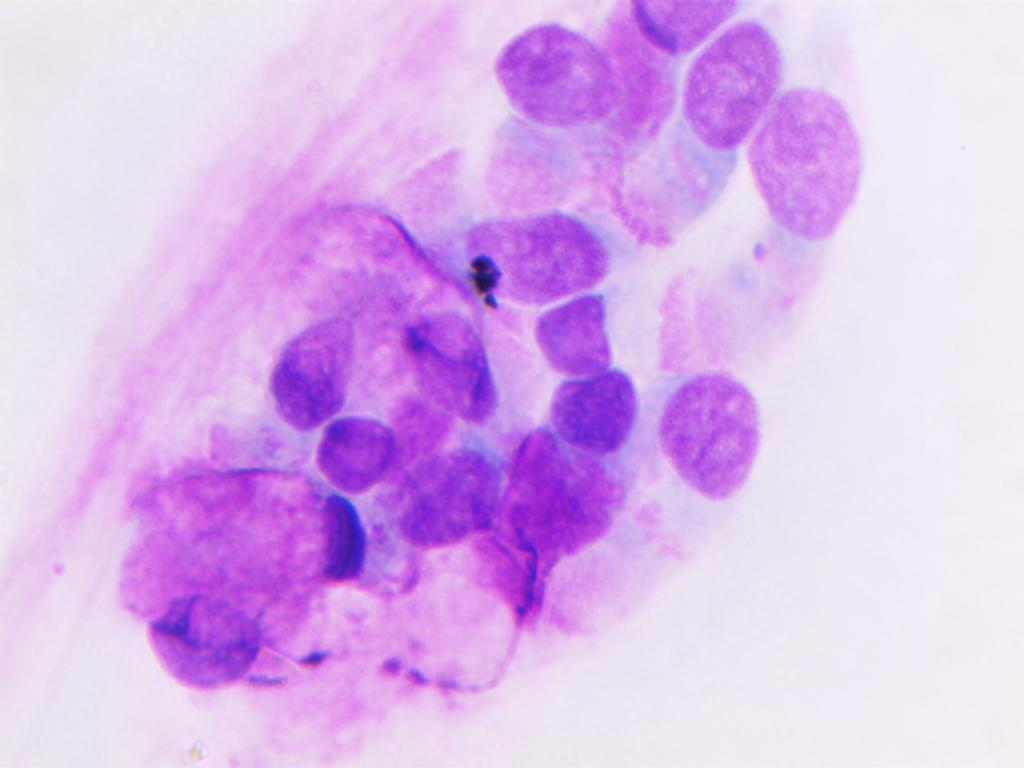artifact: (511, 427, 629, 580)
ciliated: (649, 82, 865, 379), (594, 18, 781, 253)
epithelial: (644, 367, 783, 505), (474, 12, 618, 134), (385, 426, 516, 548), (453, 209, 617, 303), (257, 294, 370, 429), (134, 589, 265, 705), (393, 301, 509, 423), (518, 289, 619, 374), (545, 366, 640, 449), (314, 407, 392, 491)
goblet_cell: (136, 469, 372, 589), (602, 1, 754, 49)
